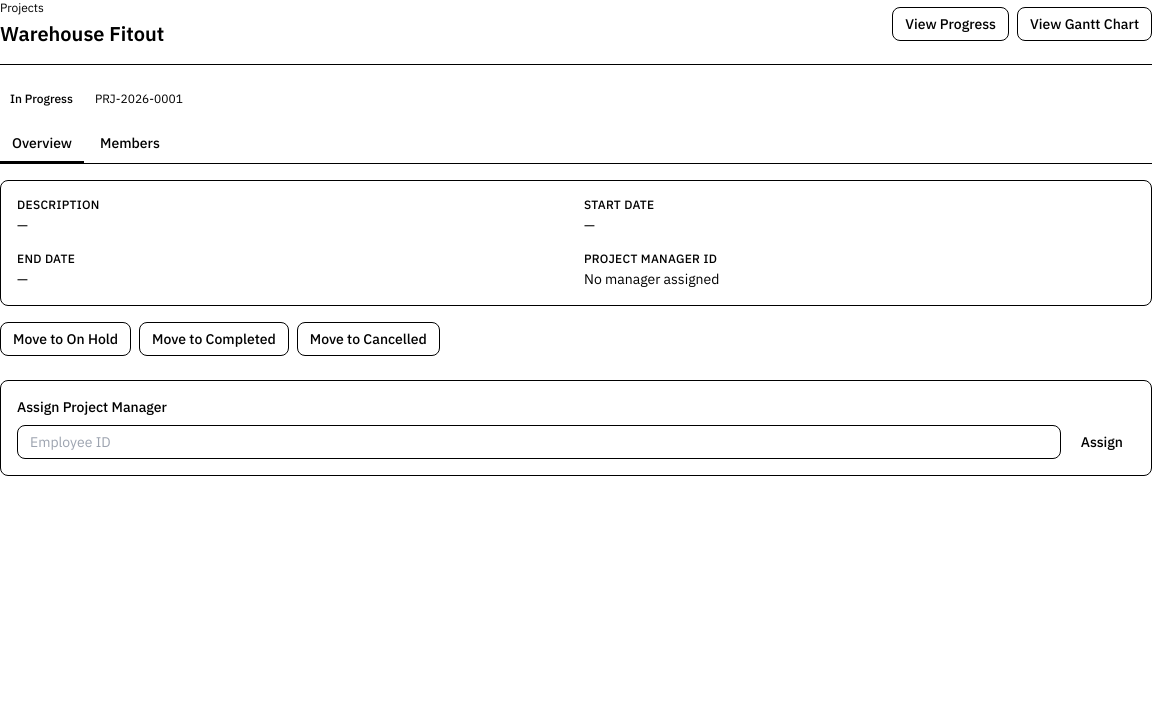
Scenario: ProjectDetailPage › surfaces the real backend 422 message verbatim when completion is blocked by open work orders
Step 1. Click the button "Move to Completed" → (214, 339), box [139, 322, 289, 356]
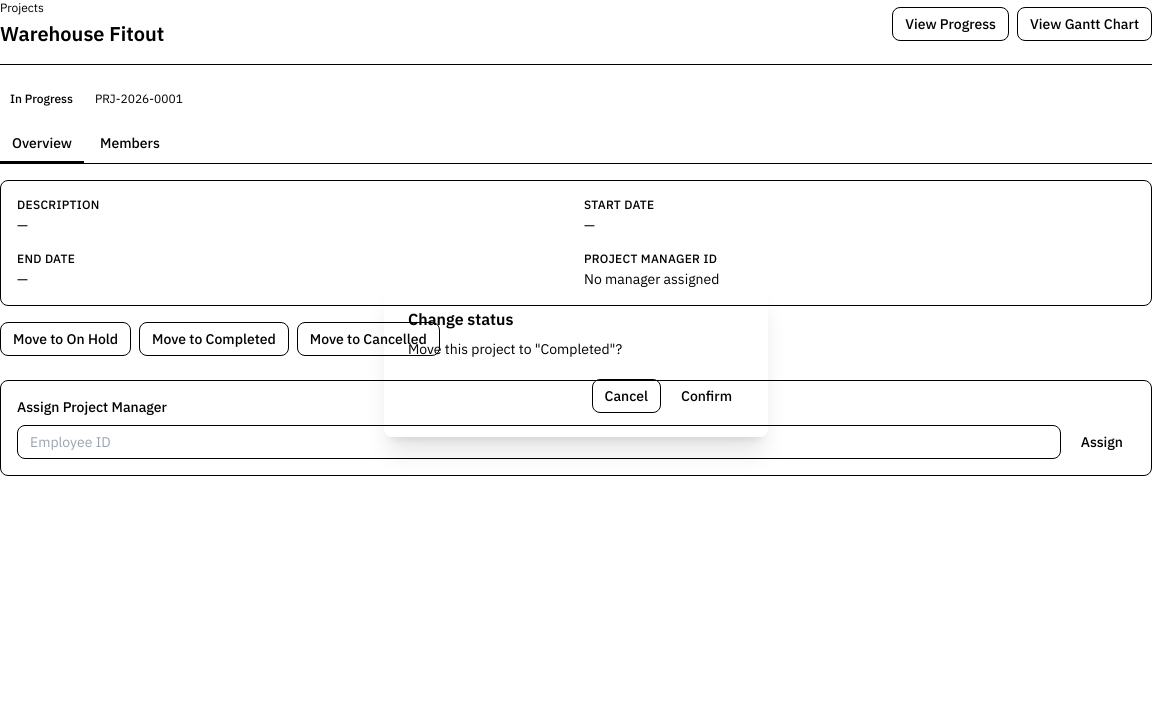
Step 2. Click the button "Confirm" → (706, 396), box [669, 379, 744, 413]
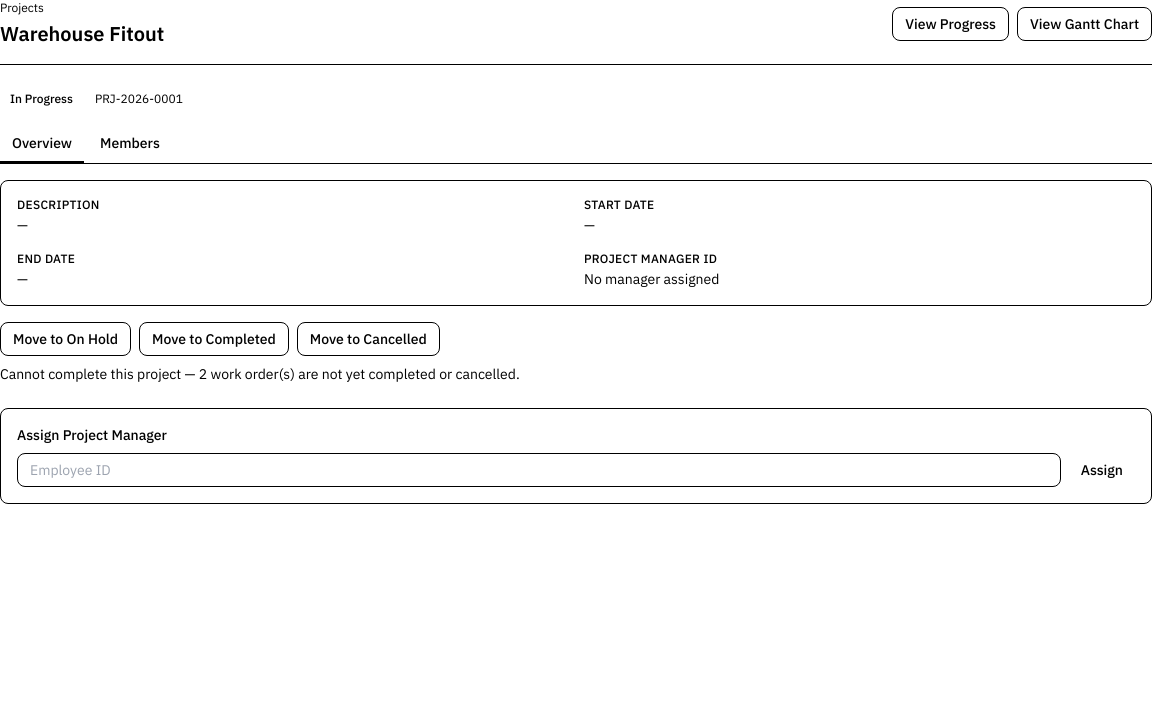
Check: the text "Cannot complete this project — 2 work order(s) are not yet completed or cancelled." is shown, box [0, 365, 520, 383]
